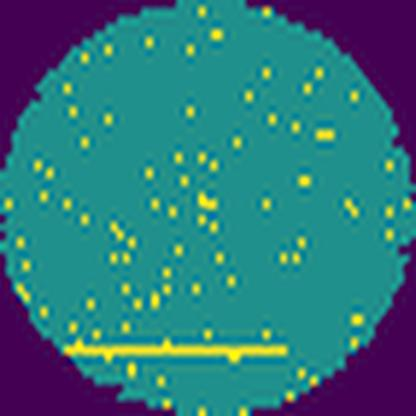Scratch: (58, 331, 294, 371)
